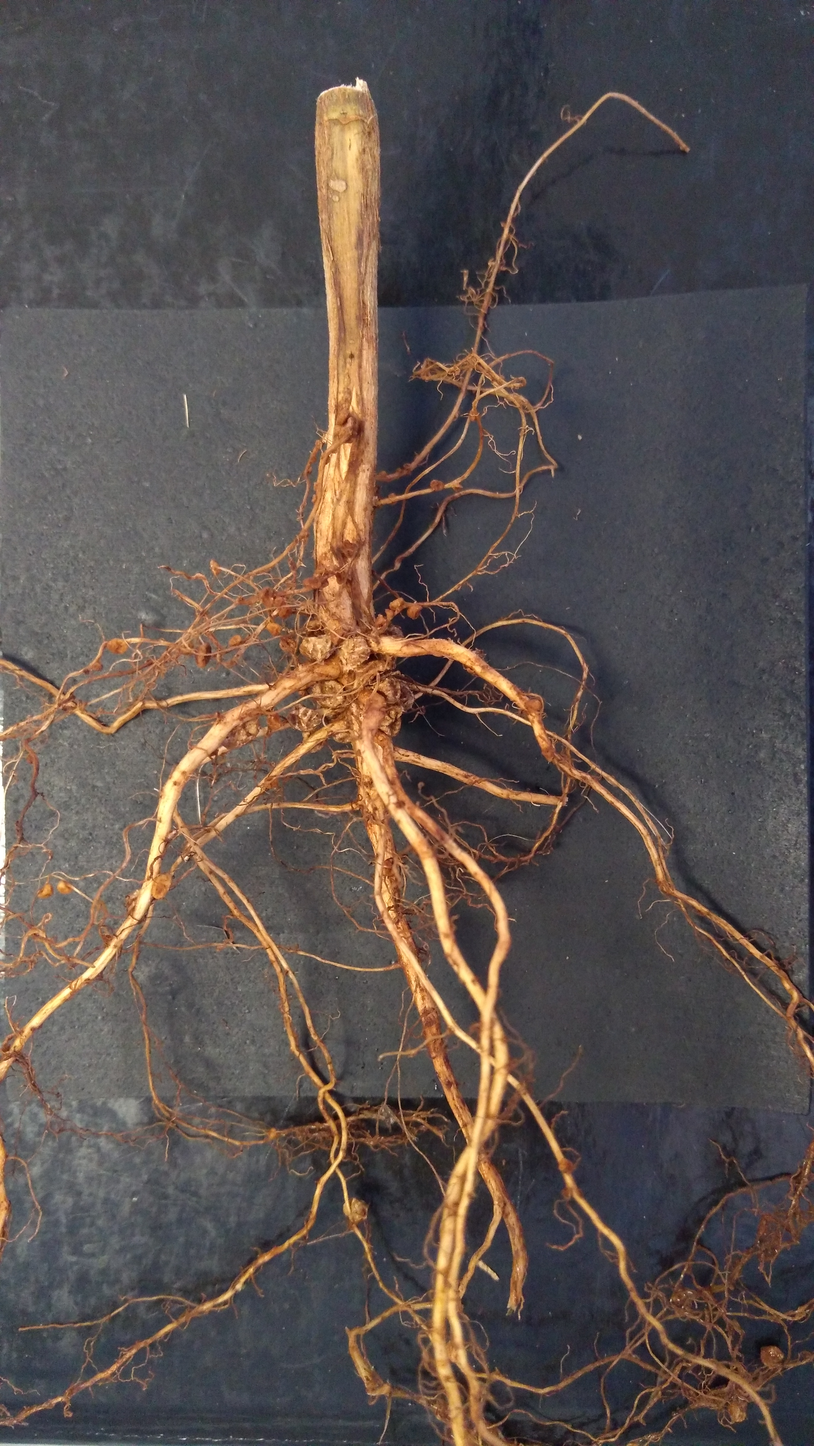nodule: (334, 633, 373, 675), (306, 677, 351, 711), (219, 716, 260, 751), (284, 702, 323, 735), (341, 1191, 373, 1230), (297, 632, 334, 663), (724, 1394, 751, 1431), (149, 868, 177, 903), (756, 1341, 787, 1372), (194, 640, 216, 672), (302, 571, 331, 592), (31, 881, 55, 902), (264, 708, 283, 730), (385, 622, 406, 641), (277, 636, 297, 654), (55, 877, 71, 898), (333, 728, 351, 746), (262, 774, 279, 793), (406, 602, 423, 621), (373, 611, 387, 634), (387, 595, 405, 612), (263, 621, 283, 636), (306, 740, 325, 755), (277, 604, 294, 620), (558, 1155, 572, 1174), (427, 479, 446, 492), (559, 1183, 574, 1199), (227, 633, 244, 647), (387, 491, 400, 508), (383, 607, 397, 622), (313, 437, 324, 451), (324, 453, 333, 466), (267, 1127, 277, 1138), (379, 469, 390, 477), (310, 492, 317, 504)
